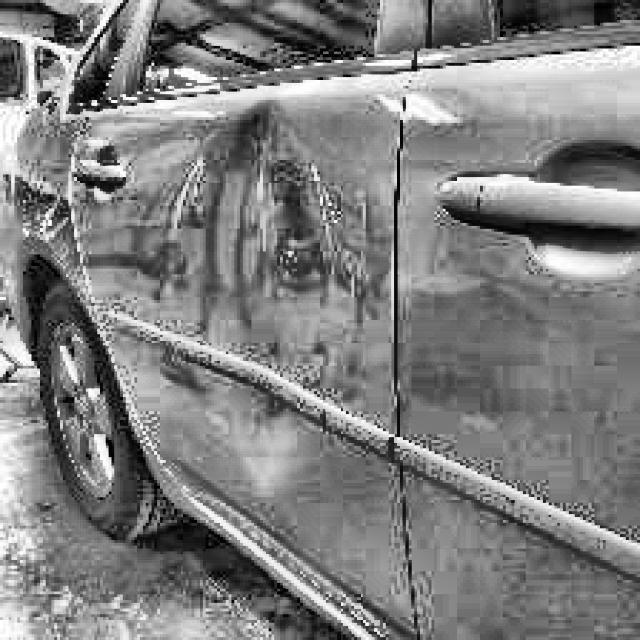door_dent: (180, 125, 348, 503)
